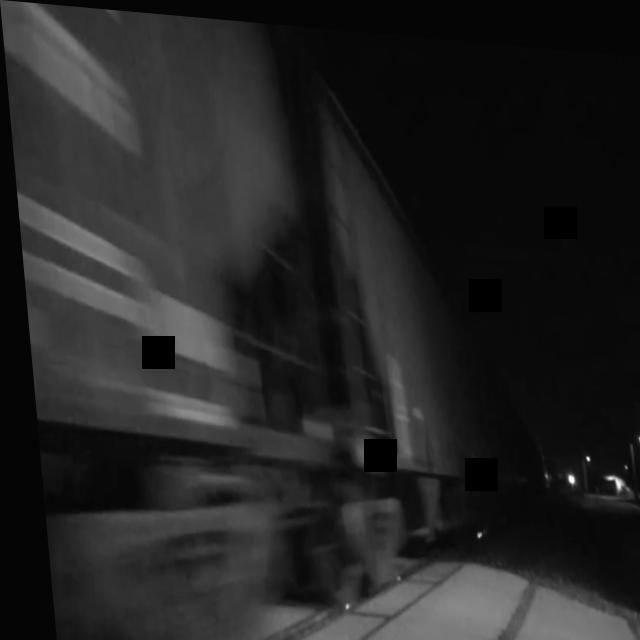hopper: (280, 25, 532, 640)
